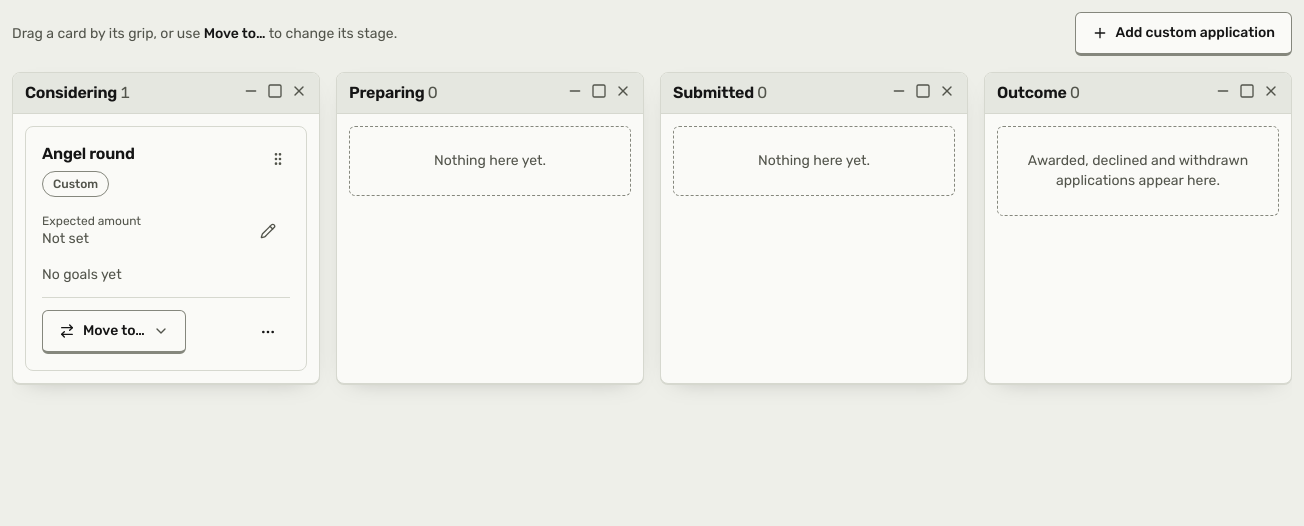
Scenario: PipelineBoard › edits the expected amount in place
Click the button named "Set expected amount for Angel round" at (268, 231), box [246,209,290,253]
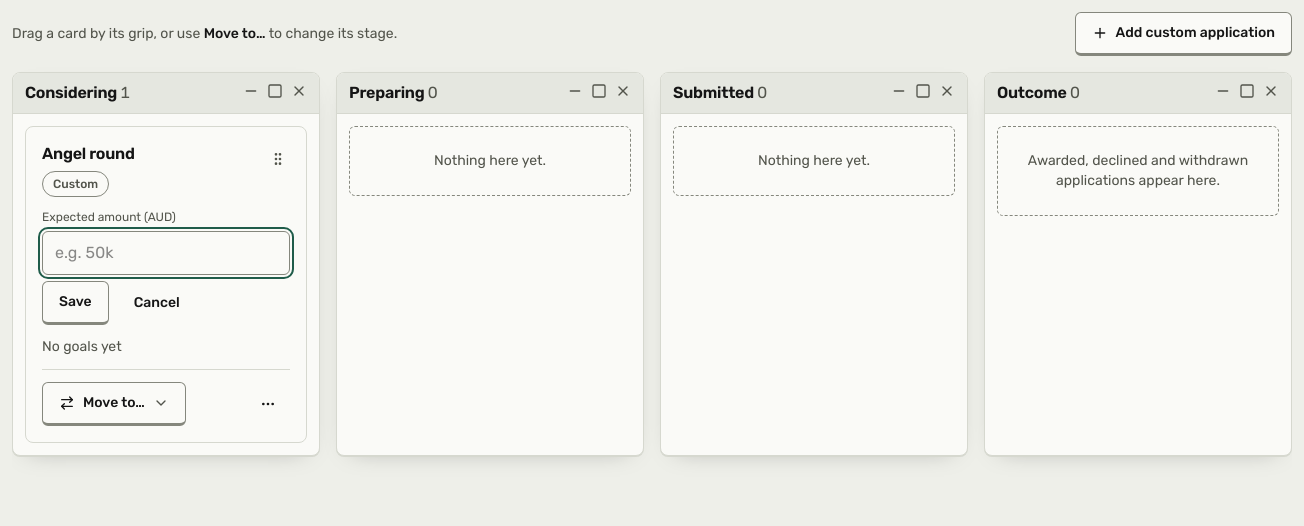
Type "lots" into the field labelled "Expected amount (AUD)" at (166, 253), box [42,231,290,275]
Then press Enter
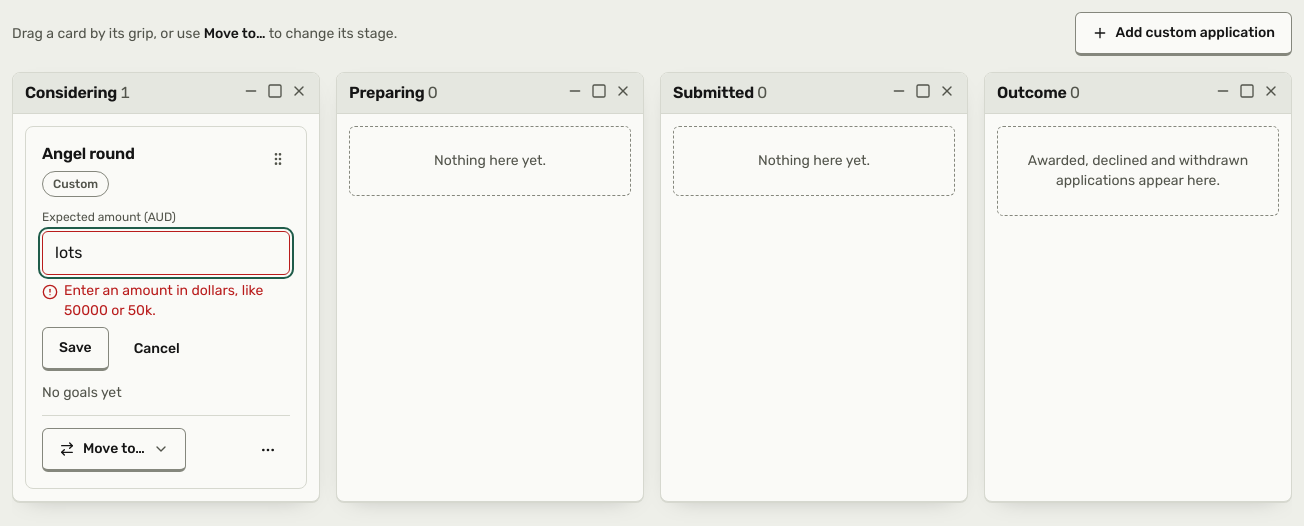
Now the text "Enter an amount in dollars, like 50000 or 50k." is shown, box [64,281,290,321]
Replace the text in the field labelled "Expected amount (AUD)" with "50k" at (166, 253), box [42,231,290,275]
Then press Enter
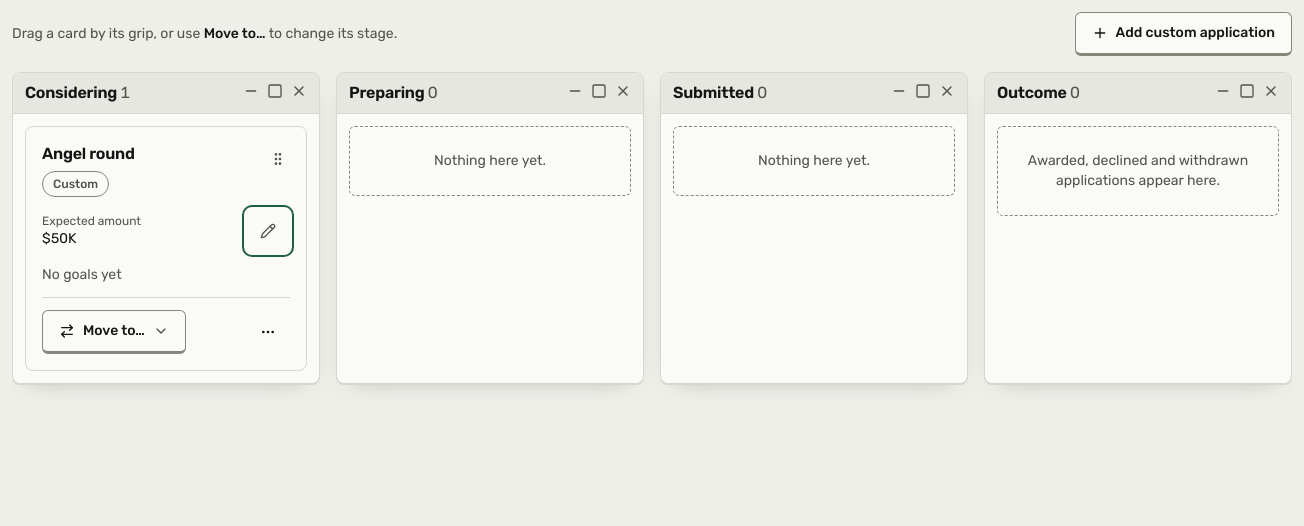
Now the text "$50K" is shown, box [42,230,76,247]
